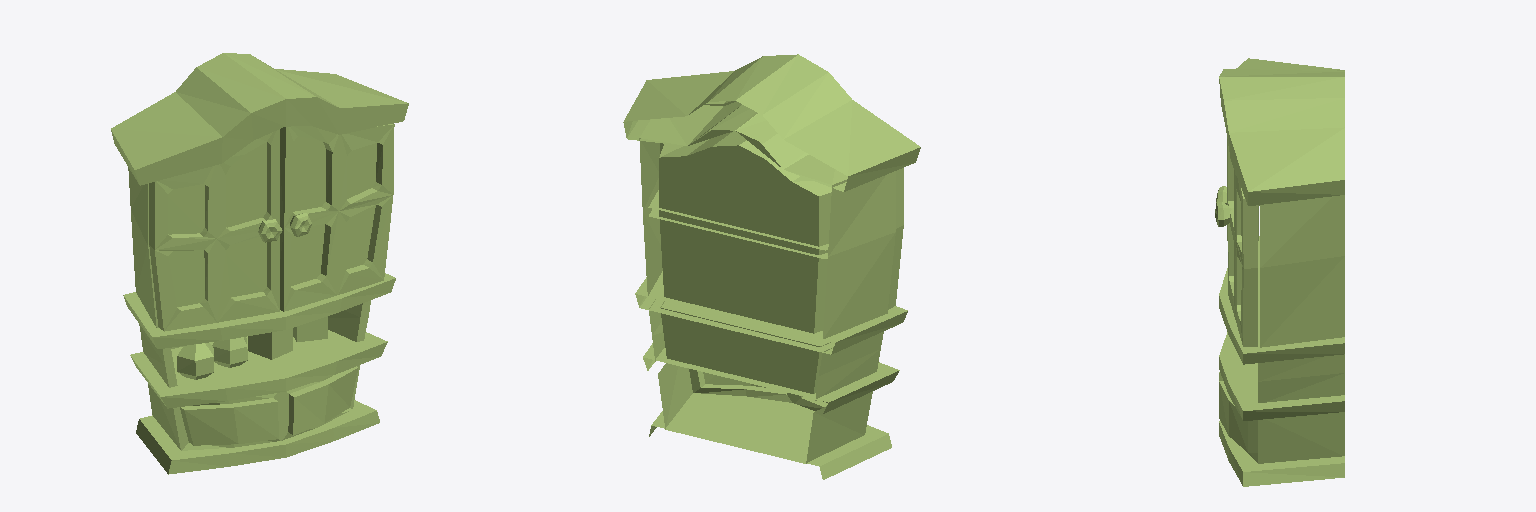
3 renders of one model, left to right at view 1: azimuth 30°, elevation 25°; view 2: azimuth 150°, elevation 25°; view 3: azimuth 270°, elevation 25°, orthographic.
Parts seen in each view (by area): view 1: kitchen_pantry_Mesh; view 2: kitchen_pantry_Mesh; view 3: kitchen_pantry_Mesh.
Boxes of the visible parts, <box> form: kitchen_pantry_Mesh: <box>111,53,408,474</box>; kitchen_pantry_Mesh: <box>623,54,920,479</box>; kitchen_pantry_Mesh: <box>1215,58,1344,486</box>.
Size of the model in its own units: 206 by 258 by 85.15.